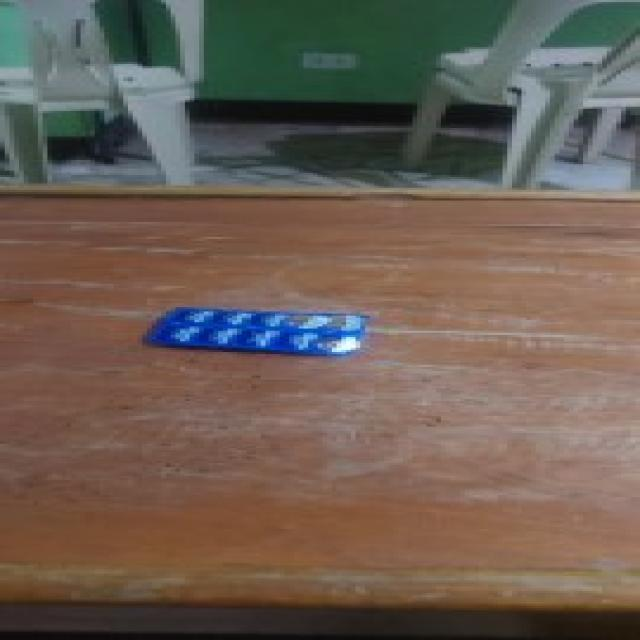Cacat: (132, 304, 370, 356)
Kemasan: (284, 313, 360, 352)
